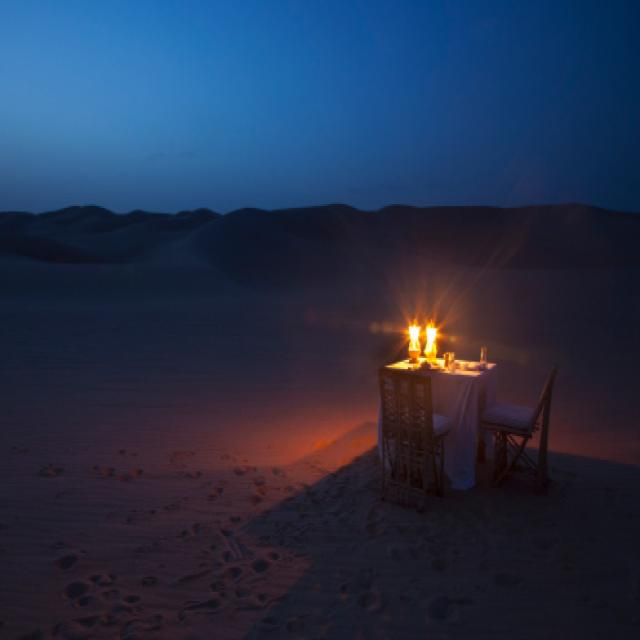Cup: (443, 346, 461, 378), (475, 344, 491, 365)
People: (396, 330, 508, 504)
chair: (365, 354, 444, 509), (486, 353, 567, 499)
